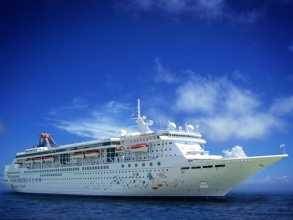youlun: (2, 102, 289, 196)
